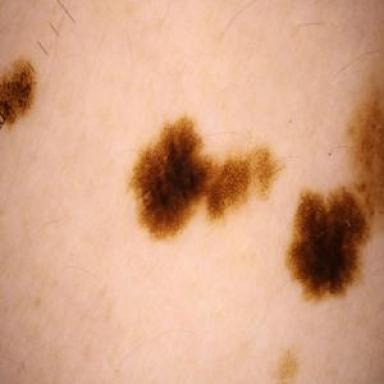Melanoma: (286, 88, 384, 300), (131, 119, 281, 237)
